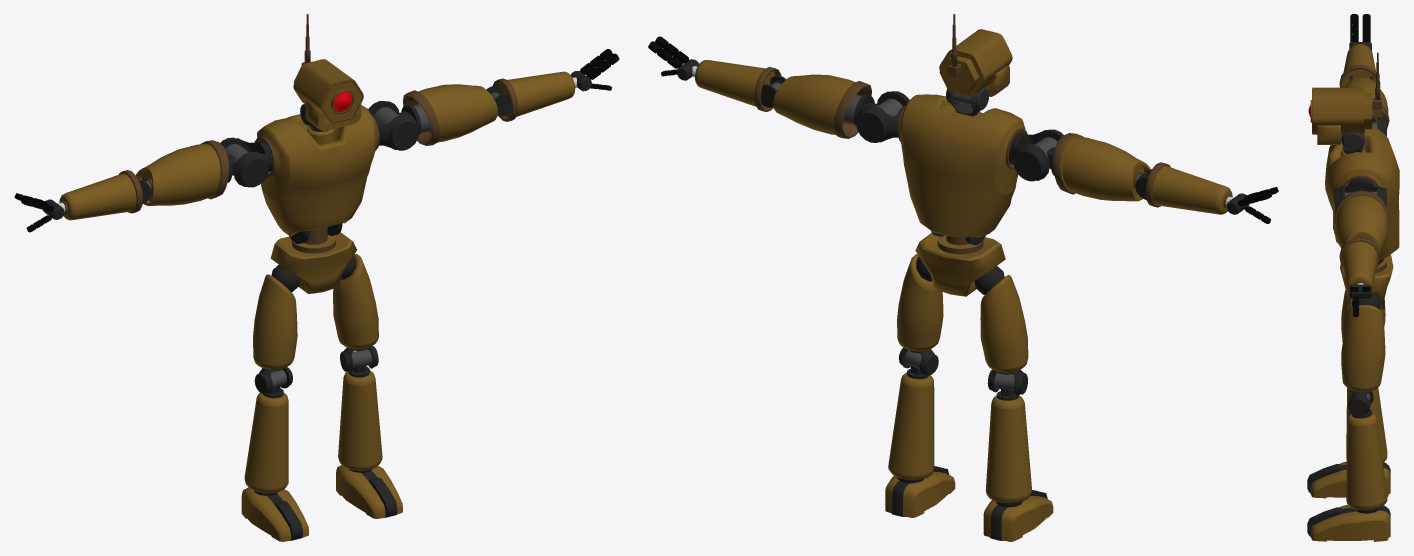
File: obj_mecano00.fbx
3 renders of one model, left to right at view 1: azimuth 30°, elevation 25°; view 2: azimuth 150°, elevation 25°; view 3: azimuth 270°, elevation 25°, orthographic. The views are drawn at different scales.
Visible parts, largest first — view 1: obj_mecano.001; view 2: obj_mecano.001; view 3: obj_mecano.001.
Part boxes in pixels (<box>): obj_mecano.001: <box>14,14,619,541</box>; obj_mecano.001: <box>648,14,1278,541</box>; obj_mecano.001: <box>1307,14,1399,541</box>.
Bounding box in the file's own units: 2.69 × 2.1 × 0.3835.
